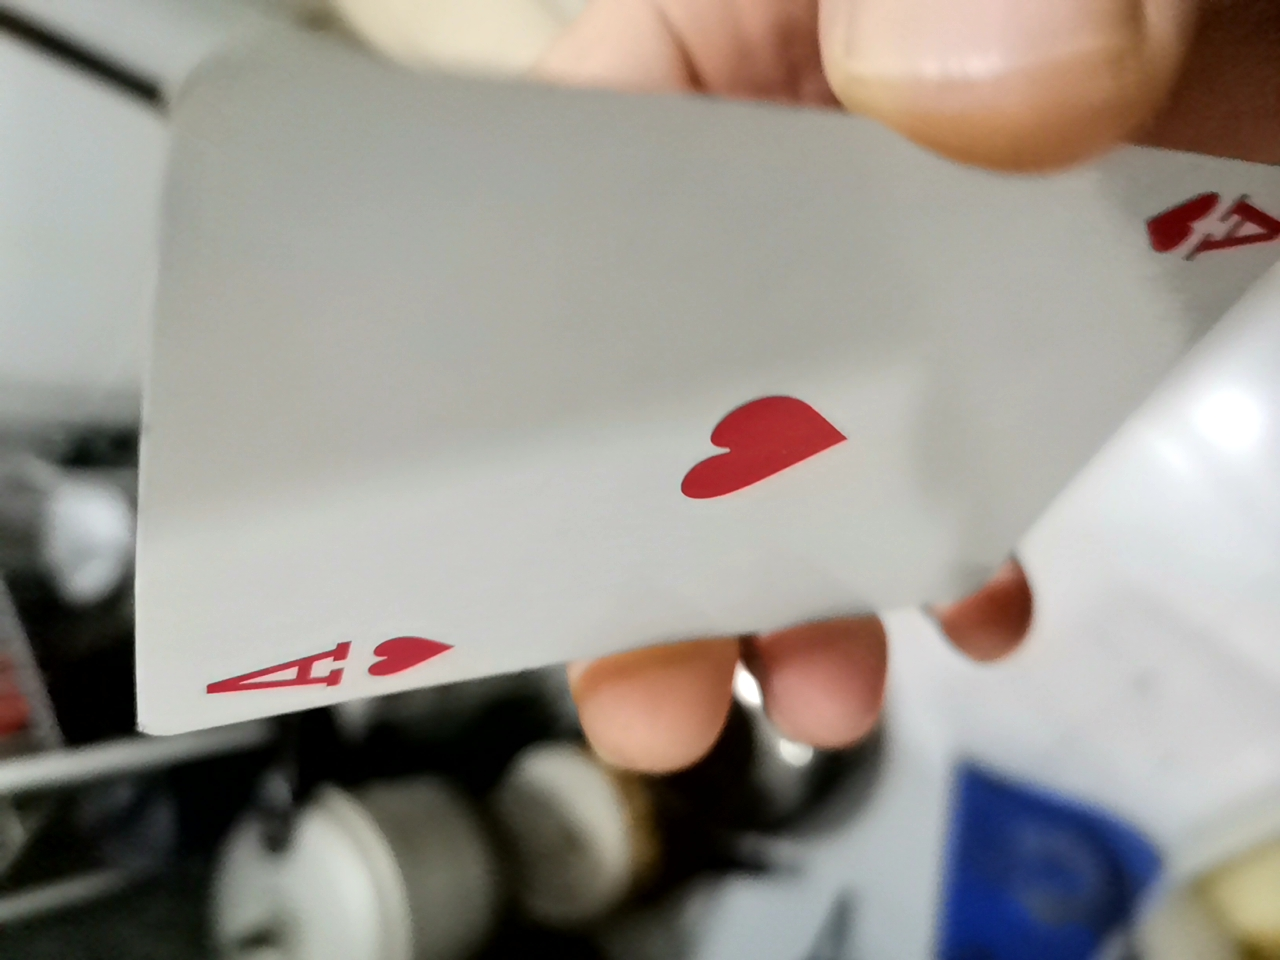hx a: (88, 108, 1019, 776)
